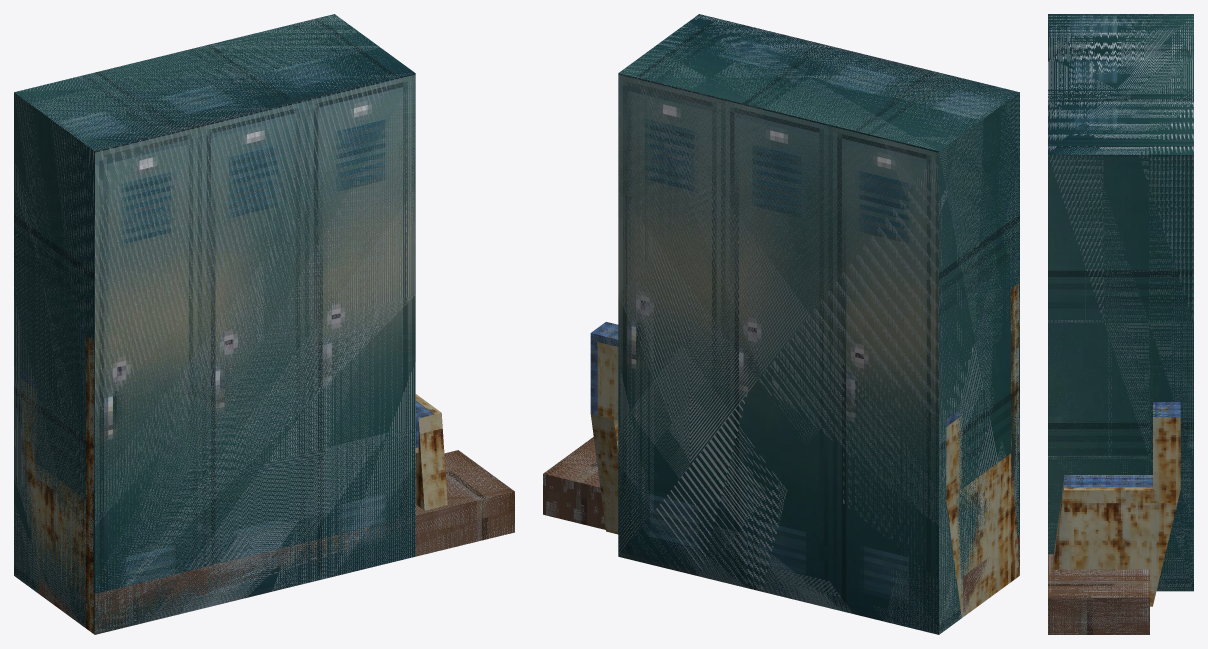
Rendered from Objetos.fbx.
3 renders of one model, left to right at view 1: azimuth 30°, elevation 25°; view 2: azimuth 150°, elevation 25°; view 3: azimuth 270°, elevation 25°, orthographic. The views are drawn at different scales.
Parts seen in each view (by area): view 1: Lockers1, LuzLarga1, Banca1, MarcoPublicitario1; view 2: Lockers1, Banca1, LuzLarga1, MarcoPublicitario1; view 3: Lockers1, Banca1, LuzLarga1.
Part boxes in pixels (x1,y1,x2,y2): Lockers1: (14, 14, 415, 634); LuzLarga1: (38, 450, 514, 634); Banca1: (21, 371, 447, 634); MarcoPublicitario1: (86, 335, 93, 633); Lockers1: (618, 14, 1019, 634); Banca1: (590, 322, 1019, 617); LuzLarga1: (543, 437, 1019, 616); MarcoPublicitario1: (1011, 283, 1018, 534); Lockers1: (1048, 14, 1193, 591); Banca1: (1053, 402, 1180, 606); LuzLarga1: (1048, 554, 1149, 634).
Bounding box in the file's own units: 3 × 3.3 × 1.
